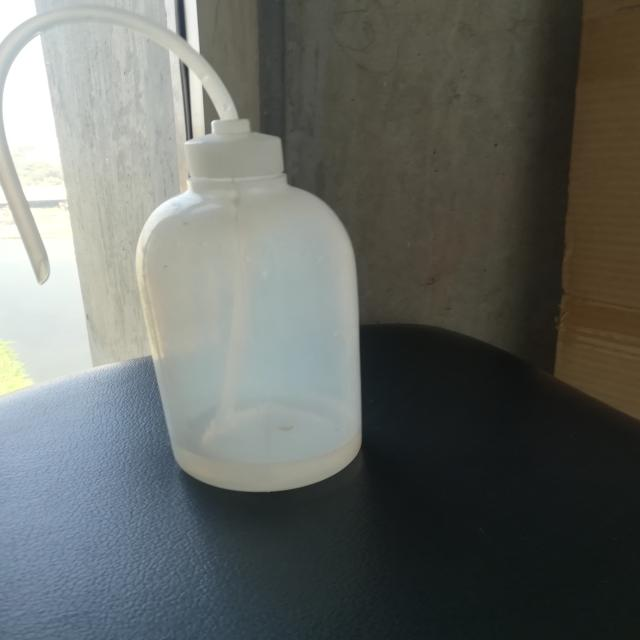Wash_Bottle: (0, 0, 386, 512)
